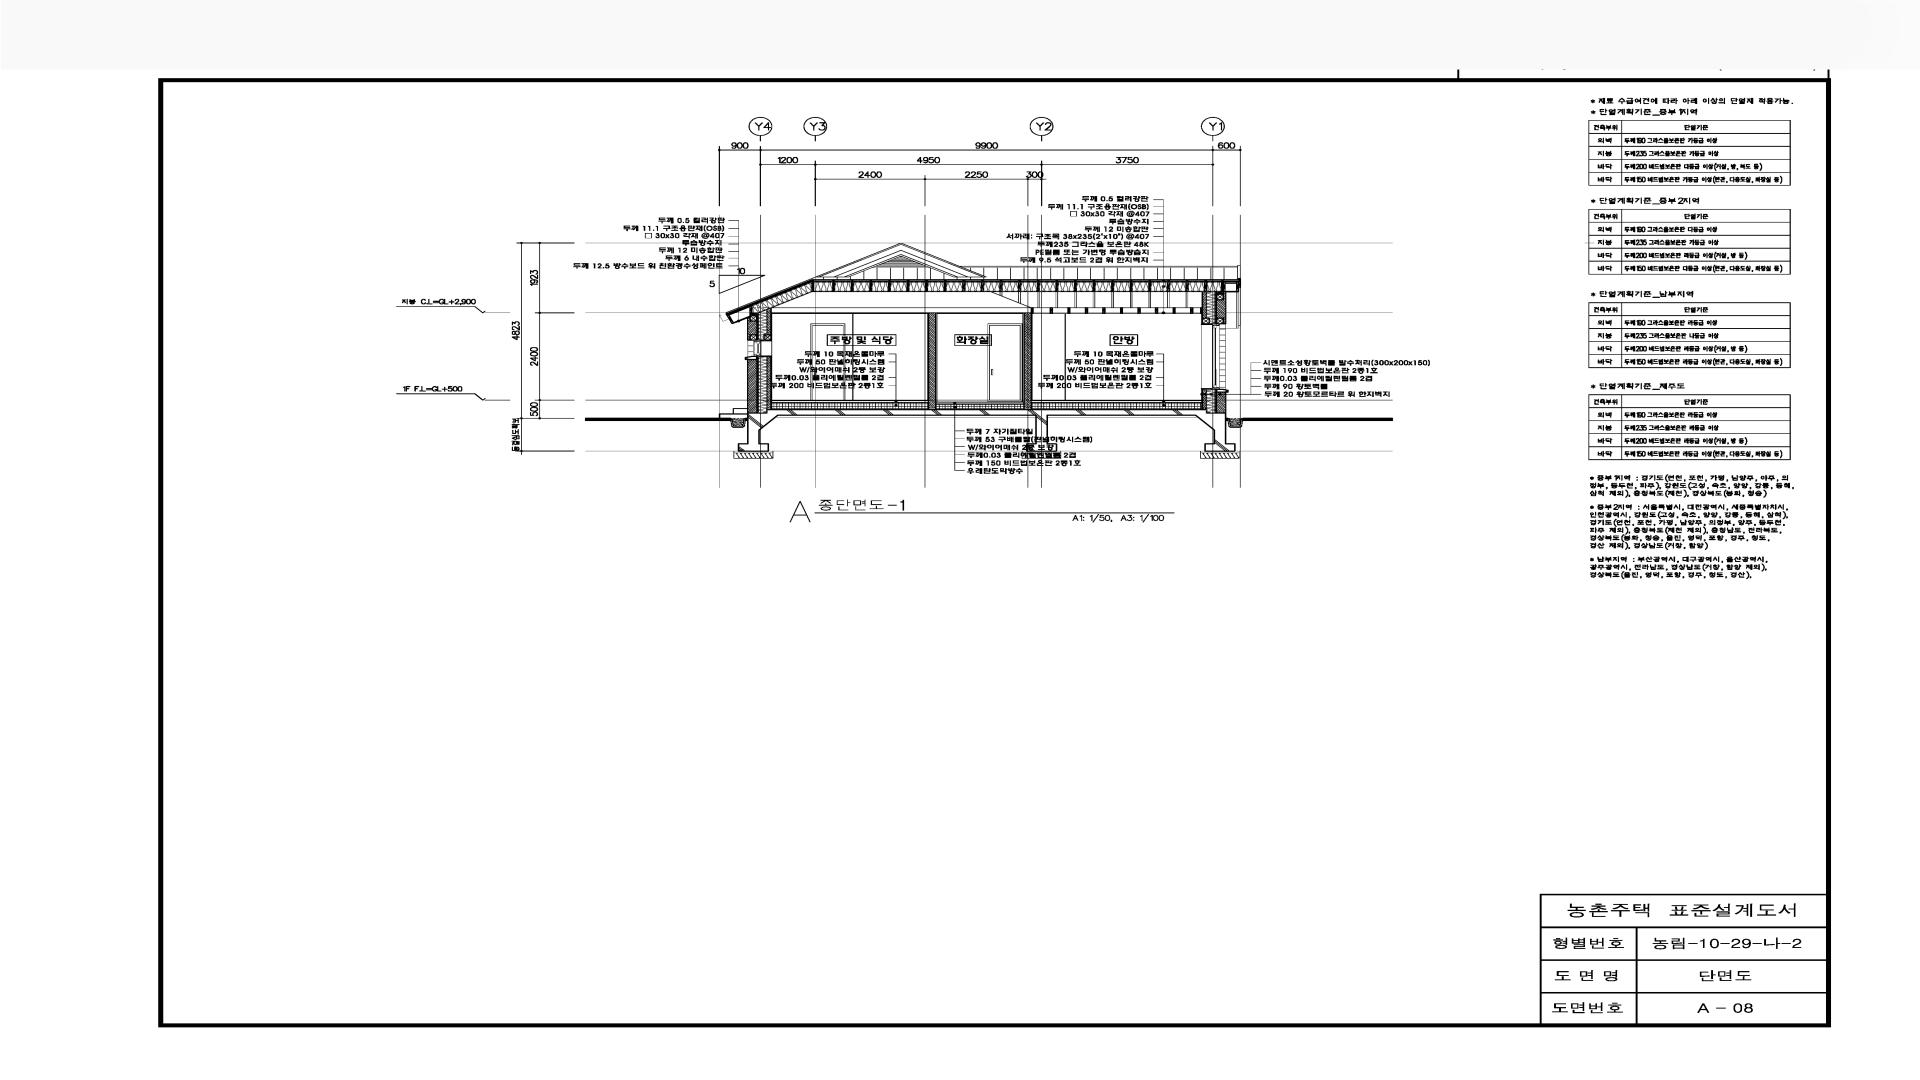door: (988, 324, 1022, 402), (811, 324, 845, 400)
wall: (738, 409, 1235, 451), (729, 281, 1237, 322), (816, 243, 986, 277), (834, 251, 968, 277), (772, 308, 1201, 314), (845, 255, 957, 277), (1032, 402, 1201, 409), (772, 402, 927, 409), (927, 314, 936, 409), (1024, 314, 1032, 409), (747, 360, 757, 413), (936, 404, 1024, 409), (763, 308, 772, 341), (1217, 292, 1226, 324), (747, 314, 757, 341), (767, 356, 772, 409), (776, 416, 1035, 417), (1201, 292, 1209, 324), (1217, 393, 1226, 413), (1048, 416, 1197, 417), (1201, 389, 1206, 409), (734, 451, 773, 453), (1022, 451, 1061, 453), (1200, 451, 1239, 453), (745, 356, 757, 360), (1217, 389, 1228, 393)
window: (1201, 324, 1220, 389), (754, 341, 772, 356)
